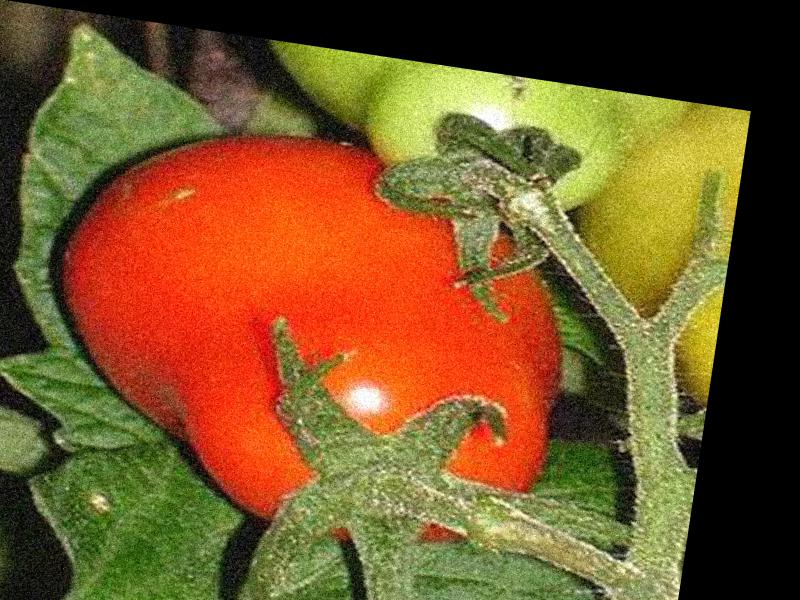Tomato: (27, 105, 584, 565)
